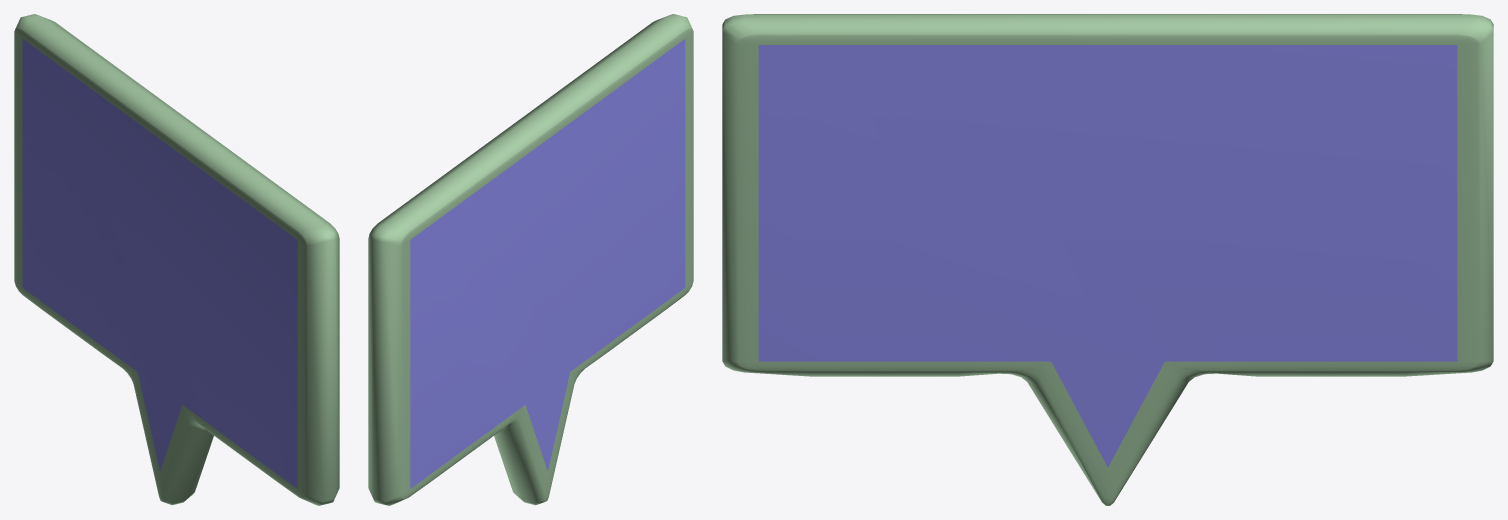
Rendered from Tag_blue.fbx.
The picture shows the model from 3 angles, left to right: view 1: azimuth 30°, elevation 25°; view 2: azimuth 150°, elevation 25°; view 3: azimuth 270°, elevation 25°; orthographic projection. The views are drawn at different scales.
Parts seen in each view (by area): view 1: ballon; view 2: ballon; view 3: ballon.
Boxes of the visible parts, bbox=[...] form: ballon: bbox=[14, 14, 339, 505]; ballon: bbox=[368, 14, 693, 505]; ballon: bbox=[722, 14, 1493, 505].
Size of the model in its own units: 2 by 21.57 by 31.13.
